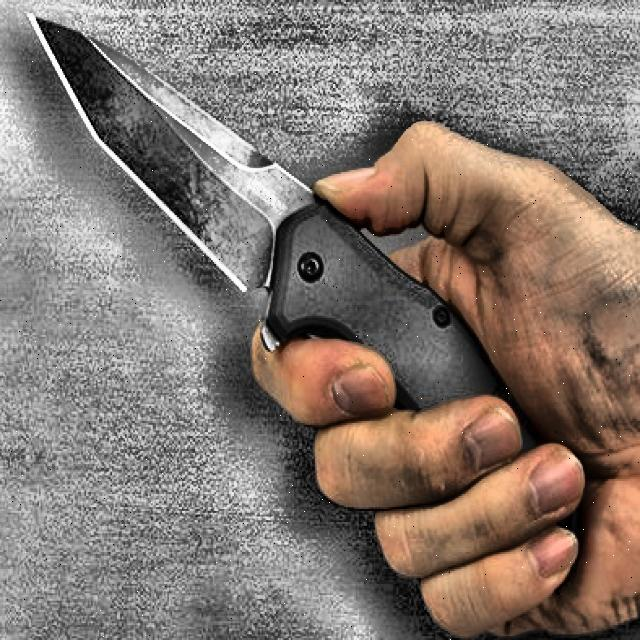knife: (32, 16, 577, 536)
